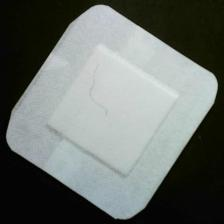Dressing: (7, 5, 219, 222)
F_Body: (87, 58, 117, 119)
